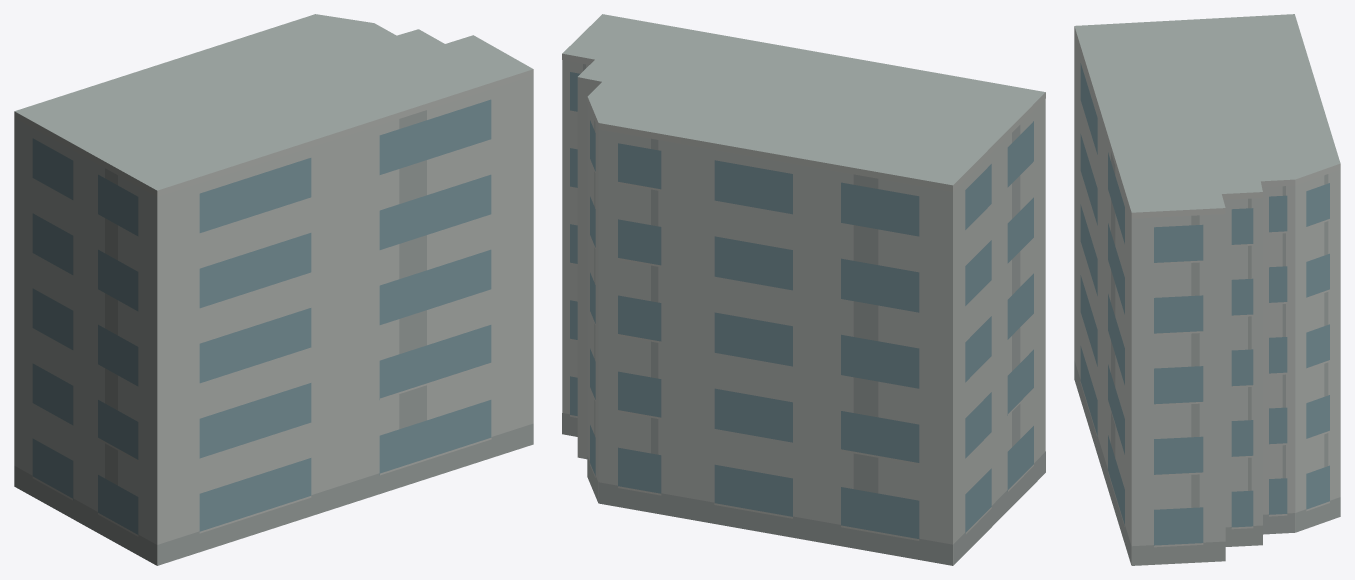
The model's file is survey-upis-32565335.glb.
3 views of the same model, side by side, from view 1: azimuth 30°, elevation 25°; view 2: azimuth 150°, elevation 25°; view 3: azimuth 270°, elevation 25° (orthographic). The views are drawn at different scales.
Parts seen in each view (by area): view 1: survey-upis-32565335.tmp; view 2: survey-upis-32565335.tmp; view 3: survey-upis-32565335.tmp.
Part boxes in pixels (x1,y1,x2,y2): survey-upis-32565335.tmp: [14, 14, 533, 565]; survey-upis-32565335.tmp: [562, 14, 1045, 565]; survey-upis-32565335.tmp: [1074, 14, 1340, 565].
Size of the model in its own units: 17.14 by 14.2 by 9.71.
